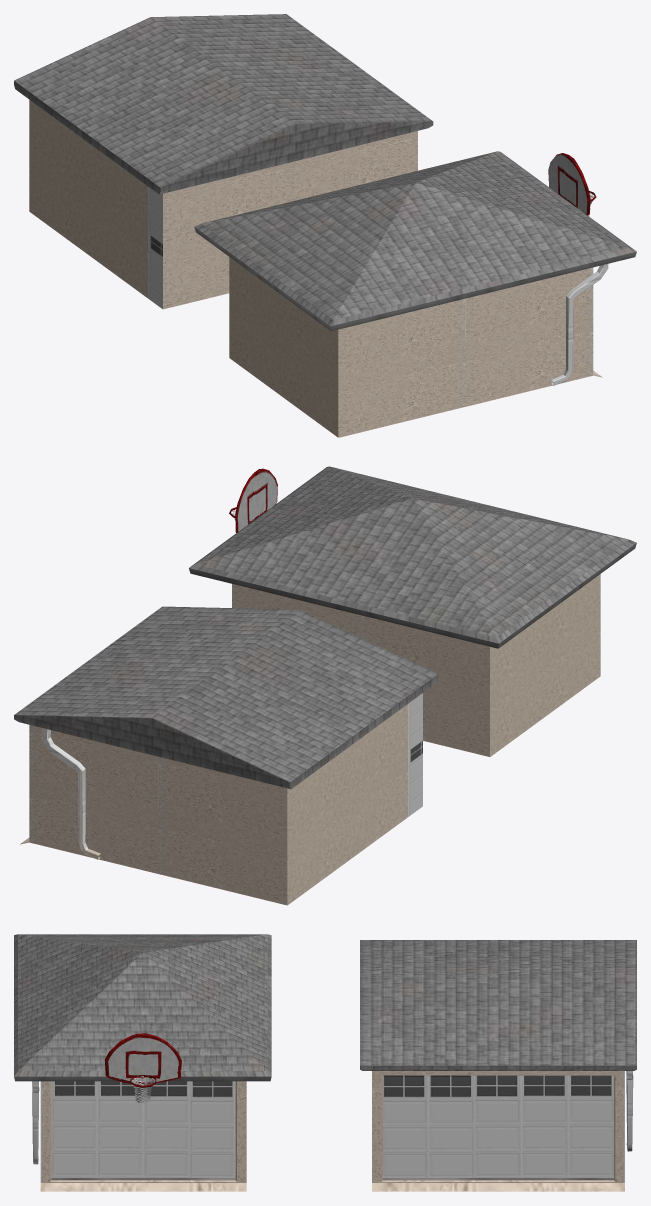
File: ResidentialGaragePack.fbx
3 views of the same model, one above another, from view 1: azimuth 30°, elevation 25°; view 2: azimuth 150°, elevation 25°; view 3: azimuth 270°, elevation 25° (orthographic). The views are drawn at different scales.
Parts seen in each view (by area): view 1: garage1.002, garage1.001, BballHoop.001; view 2: garage1.001, garage1.002, BballHoop.001; view 3: garage1.001, garage1.002, BballHoop.001.
Boxes of the visible parts, x1=… form: garage1.002: x1=194, y1=151, x2=636, y2=437; garage1.001: x1=14, y1=14, x2=433, y2=309; BballHoop.001: x1=548, y1=153, x2=596, y2=216; garage1.001: x1=14, y1=606, x2=438, y2=905; garage1.002: x1=189, y1=466, x2=636, y2=756; BballHoop.001: x1=229, y1=468, x2=277, y2=532; garage1.001: x1=360, y1=940, x2=636, y2=1191; garage1.002: x1=14, y1=934, x2=271, y2=1191; BballHoop.001: x1=105, y1=1033, x2=181, y2=1102.
Size of the model in its own units: 536 by 289 by 919.
Materials: 2 (2 with a texture image).
